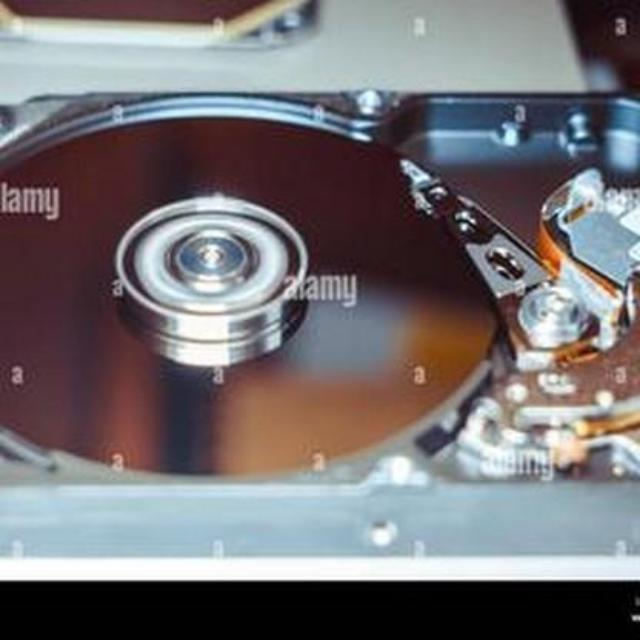DISK: (0, 90, 640, 592)
